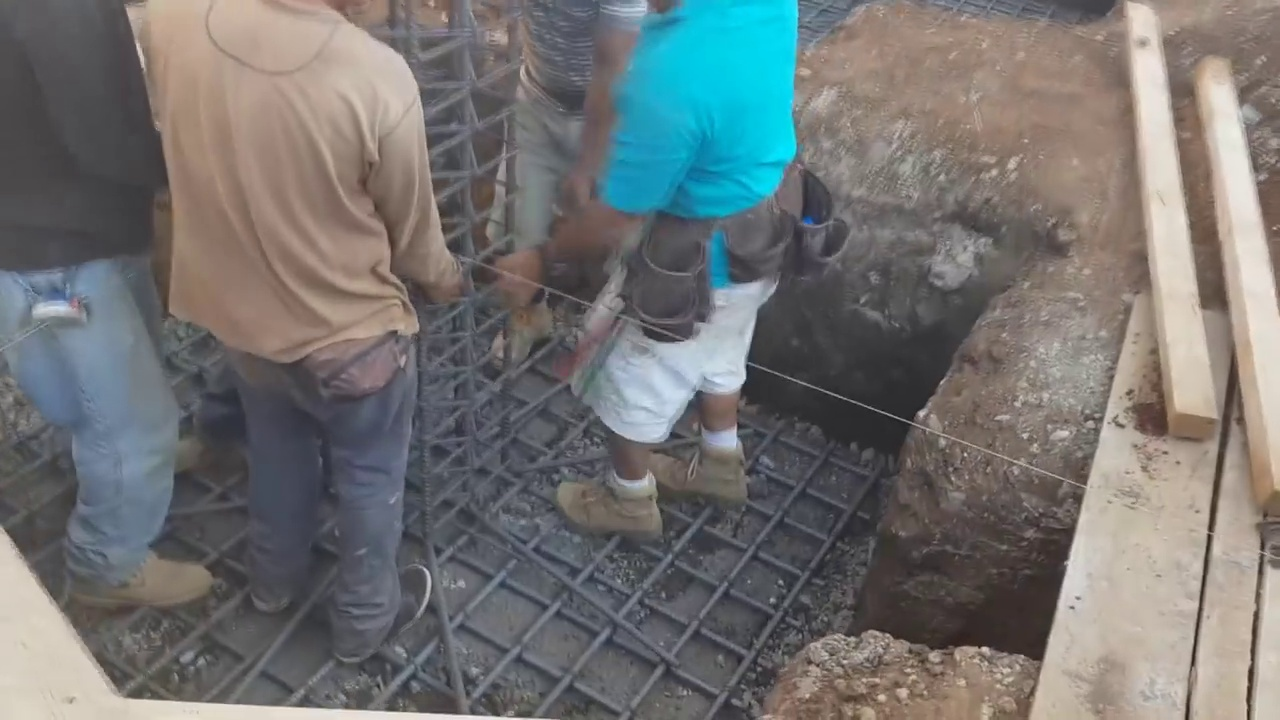person: (122, 0, 469, 668), (498, 0, 808, 545), (0, 10, 214, 615), (494, 0, 645, 324)
